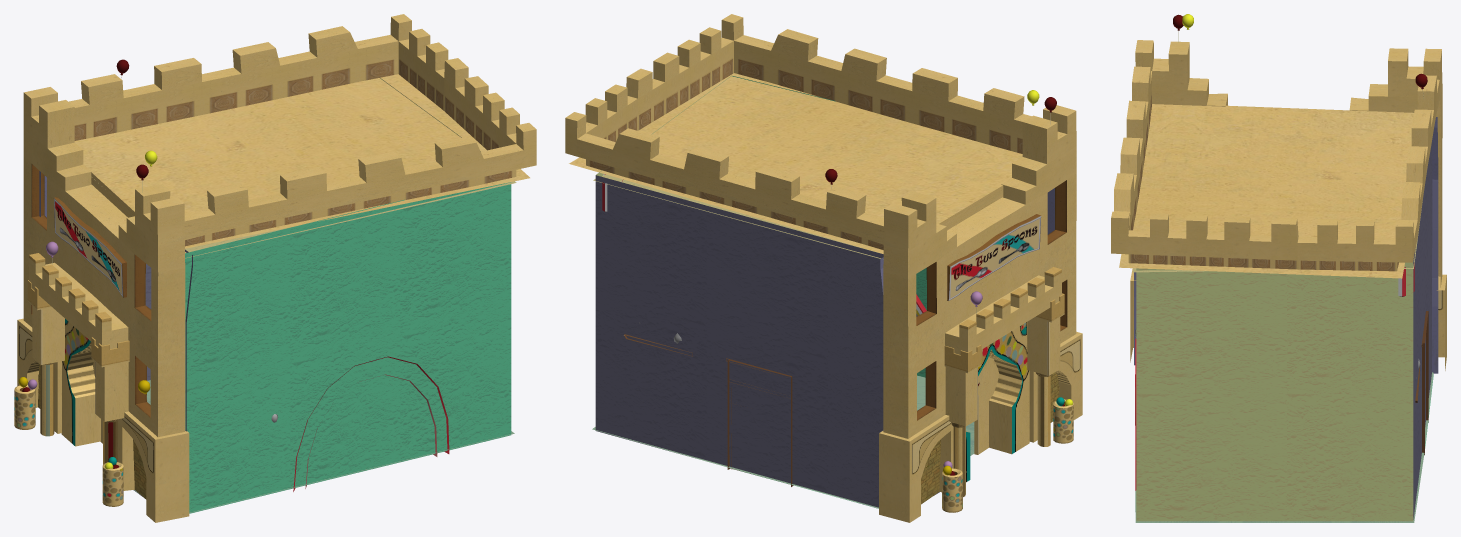
The model's file is TwoSpoonTest.fbx.
The picture shows the model from 3 angles, left to right: view 1: azimuth 30°, elevation 25°; view 2: azimuth 150°, elevation 25°; view 3: azimuth 270°, elevation 25°; orthographic projection. The views are drawn at different scales.
Visible parts, largest first — view 1: exterior, walls, sign, ceiling, pCube33; view 2: exterior, walls, sign, ceiling, polySurface272, pCube22; view 3: walls, exterior, polySurface275, polySurface272, pCube22.
Part boxes in pixels (x1,y1,x2,y2): exterior: (14,14,536,522); walls: (145,78,511,513); sign: (53,197,126,297); ceiling: (92,177,516,258); pCube33: (293,356,449,491); exterior: (565,14,1082,522); walls: (595,75,926,508); sign: (947,214,1041,300); ceiling: (593,174,880,258); polySurface272: (592,375,974,508); pCube22: (727,359,793,486); walls: (1136,142,1432,521); exterior: (1111,14,1446,370); polySurface275: (1134,117,1438,373); polySurface272: (1135,372,1433,522); pCube22: (1422,311,1428,455).
Bounding box in the file's own units: 16.33 × 13.32 × 11.61.
